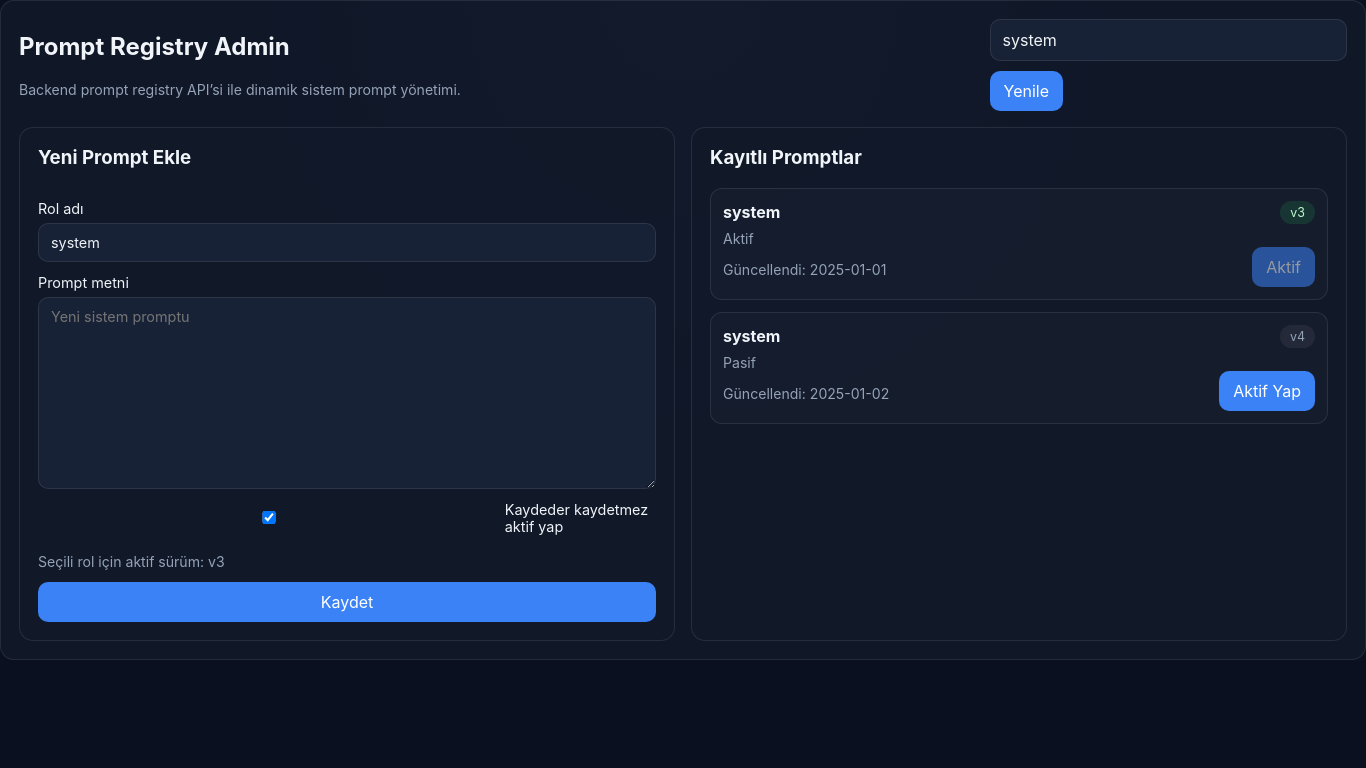
PromptAdminPanel › activates prompt versions and surfaces activation errors
Check: the text "Pasif" is shown, box top-left (723, 354), bottom-right (756, 371)
Click the button "Aktif Yap" at (1267, 391), box top-left (1219, 371), bottom-right (1315, 411)
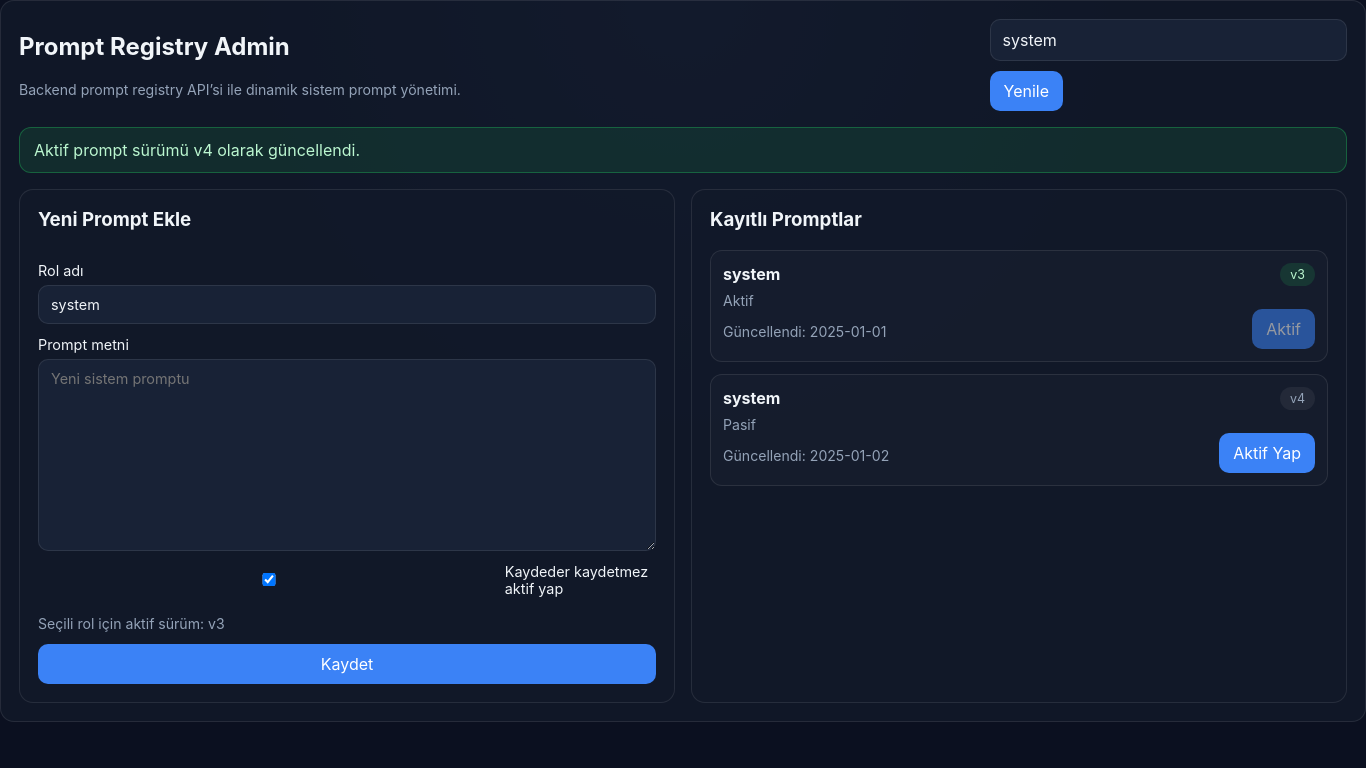
Check: the text "Aktif prompt sürümü v4 olarak güncellendi." is shown, box top-left (19, 127), bottom-right (1347, 173)
Click the button "Aktif Yap" at (1267, 453), box top-left (1219, 433), bottom-right (1315, 473)
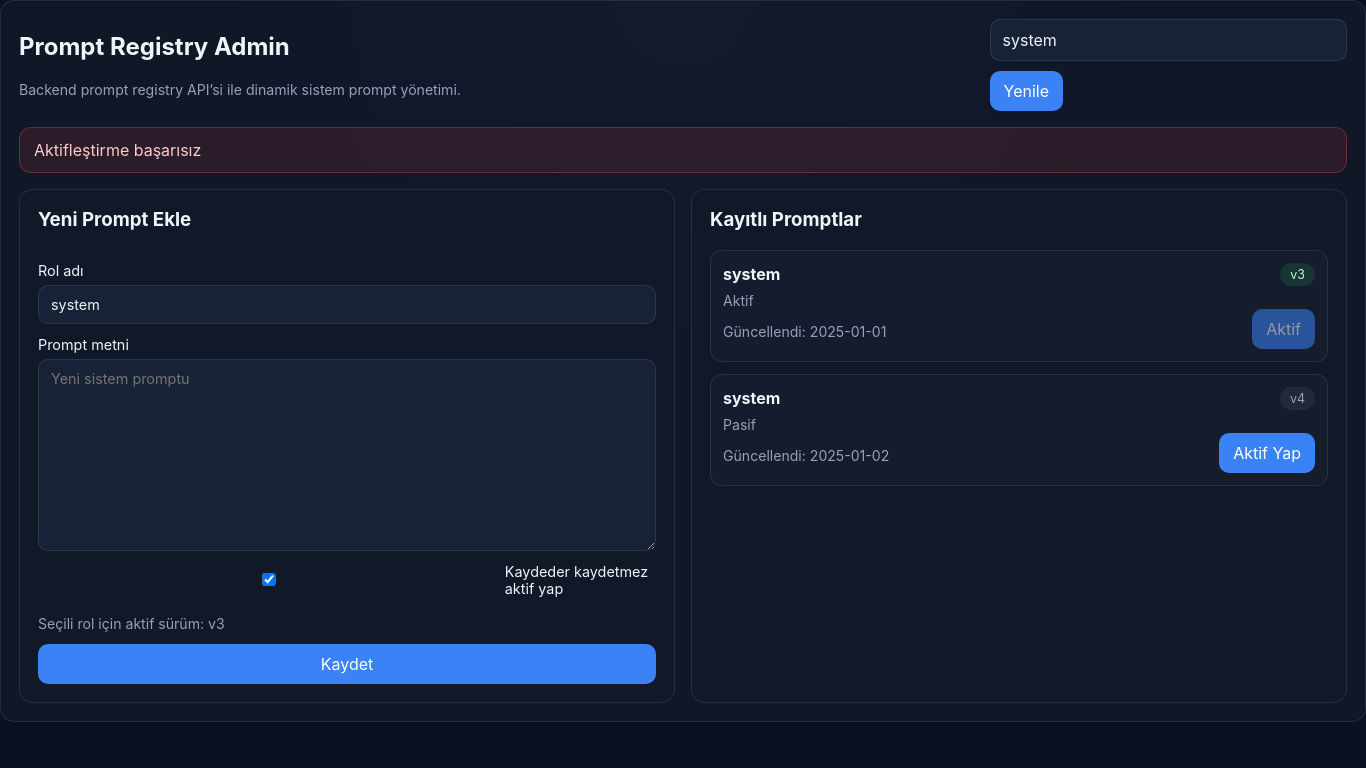
Check: the text "Aktifleştirme başarısız" is shown, box top-left (19, 127), bottom-right (1347, 173)
